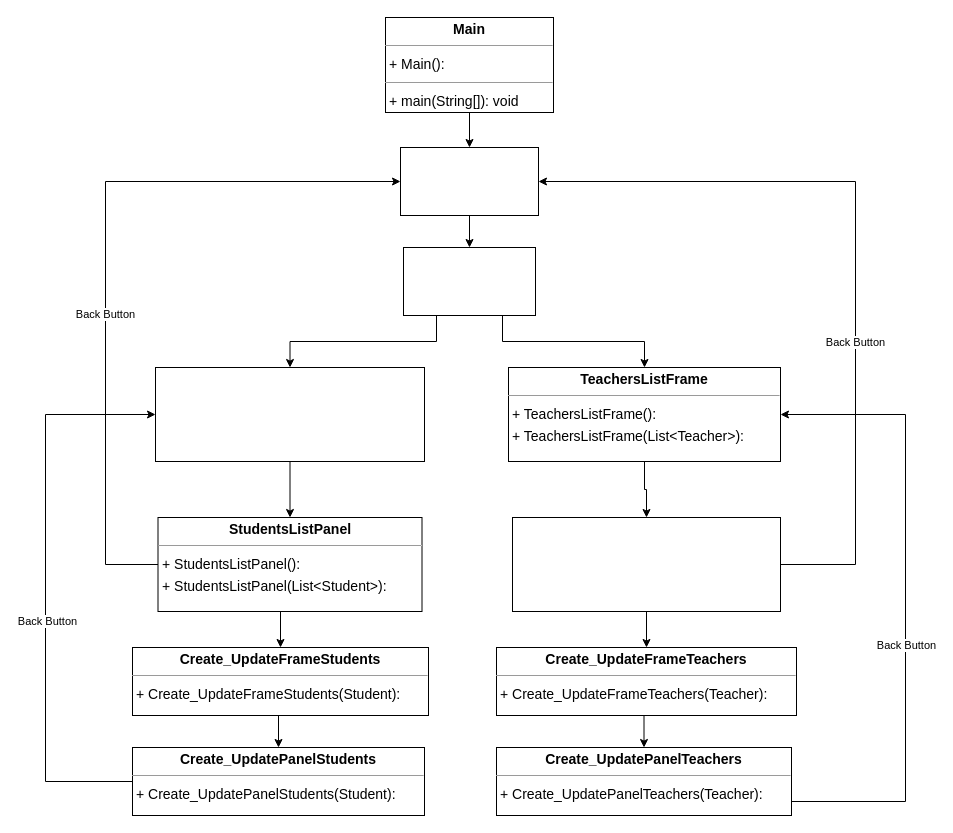
The diagram is 953 pixels wide and 833 high, and some of its shapes have lost their labels. The centre of each missing label's shape, as x and y in pixels:
"MainFrame + MainFrame():" belongs at (469,181).
"MainPanel + MainPanel():" belongs at (469,281).
"StudentsListFrame + StudentsListFrame(List<Student>): + StudentsListFrame():" belongs at (289,414).
"TeachersListPanel + TeachersListPanel(List<Teacher>): + TeachersListPanel():" belongs at (646,564).
